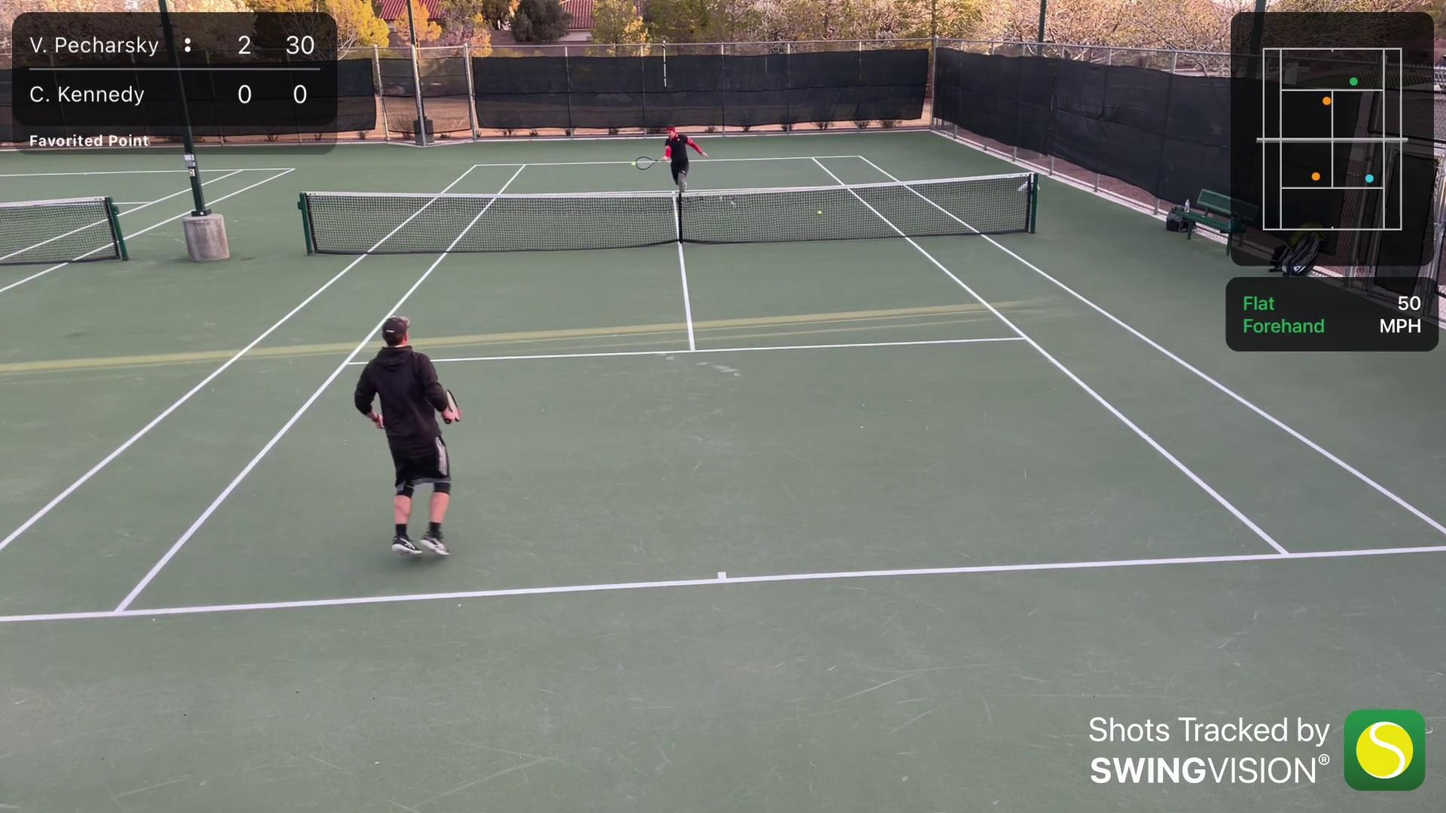ball: (629, 160, 638, 167), (815, 209, 824, 216)
